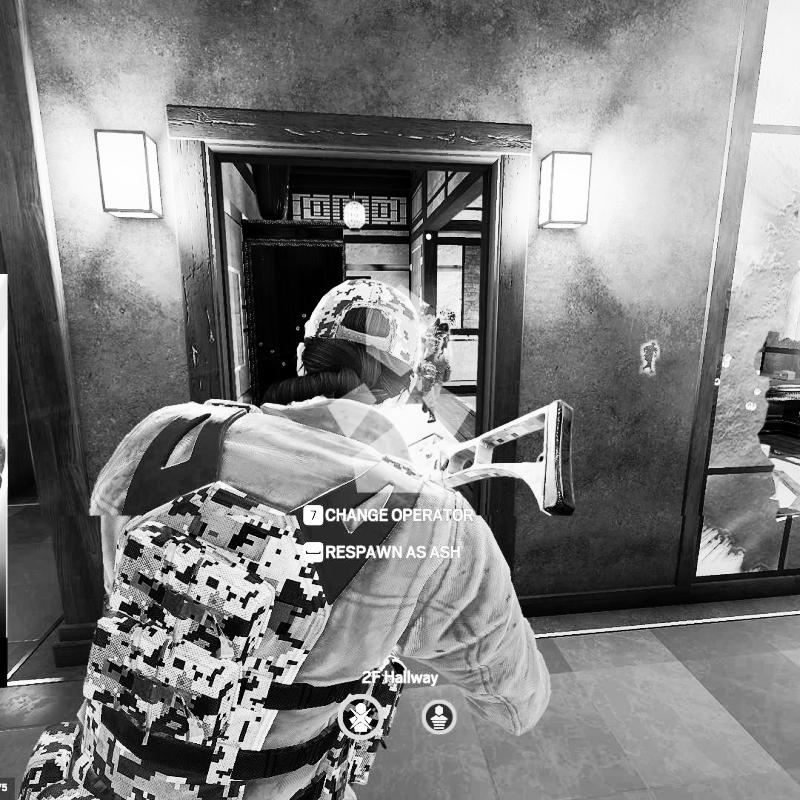Character: (9, 273, 559, 799), (411, 300, 456, 424)
Head: (292, 276, 426, 412), (421, 306, 440, 329)
